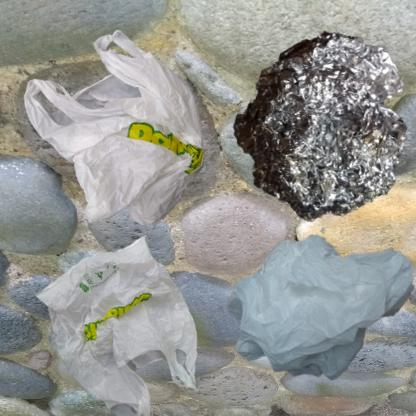aluminio: (213, 10, 416, 252)
bolsa: (10, 10, 279, 299), (10, 213, 237, 416), (213, 213, 416, 412)
